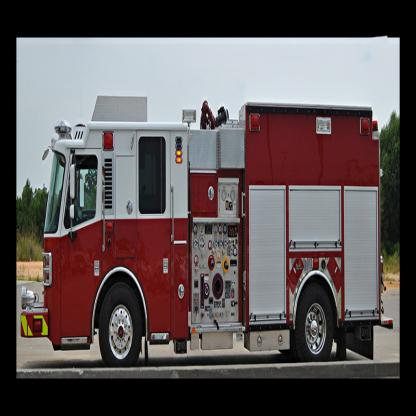Truck: (21, 87, 393, 368)
